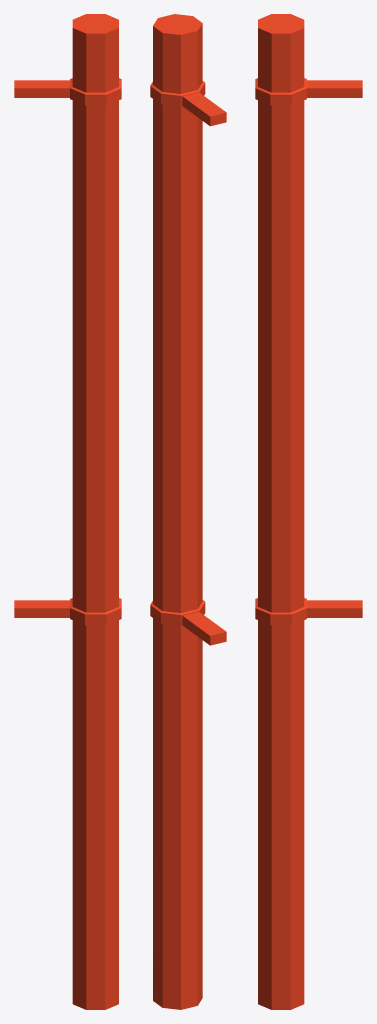
The model's file is SM_Gutter_Pipe_3m.fbx.
3 views of the same model, side by side, from view 1: azimuth 90°, elevation 25°; view 2: azimuth 210°, elevation 25°; view 3: azimuth 270°, elevation 25° (orthographic).
Parts seen in each view (by area): view 1: gutter-pipe-3m; view 2: gutter-pipe-3m; view 3: gutter-pipe-3m.
Part boxes in pixels (left/top/right/bottom): gutter-pipe-3m: left=14, top=14, right=121, bottom=1009; gutter-pipe-3m: left=150, top=14, right=226, bottom=1009; gutter-pipe-3m: left=255, top=14, right=362, bottom=1009.
Bounding box in the file's own units: 0.1436 × 3 × 0.2986.
